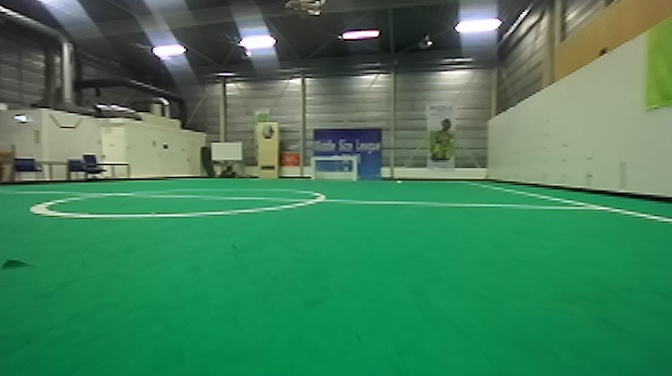goalpost: (350, 152, 360, 183), (306, 153, 317, 181)
